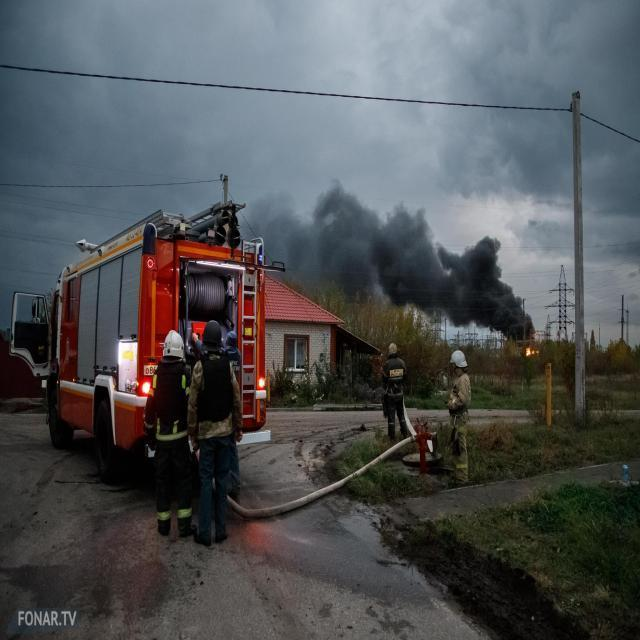Fire: (522, 347, 538, 356)
Smoke: (260, 197, 512, 335), (514, 294, 536, 342)
